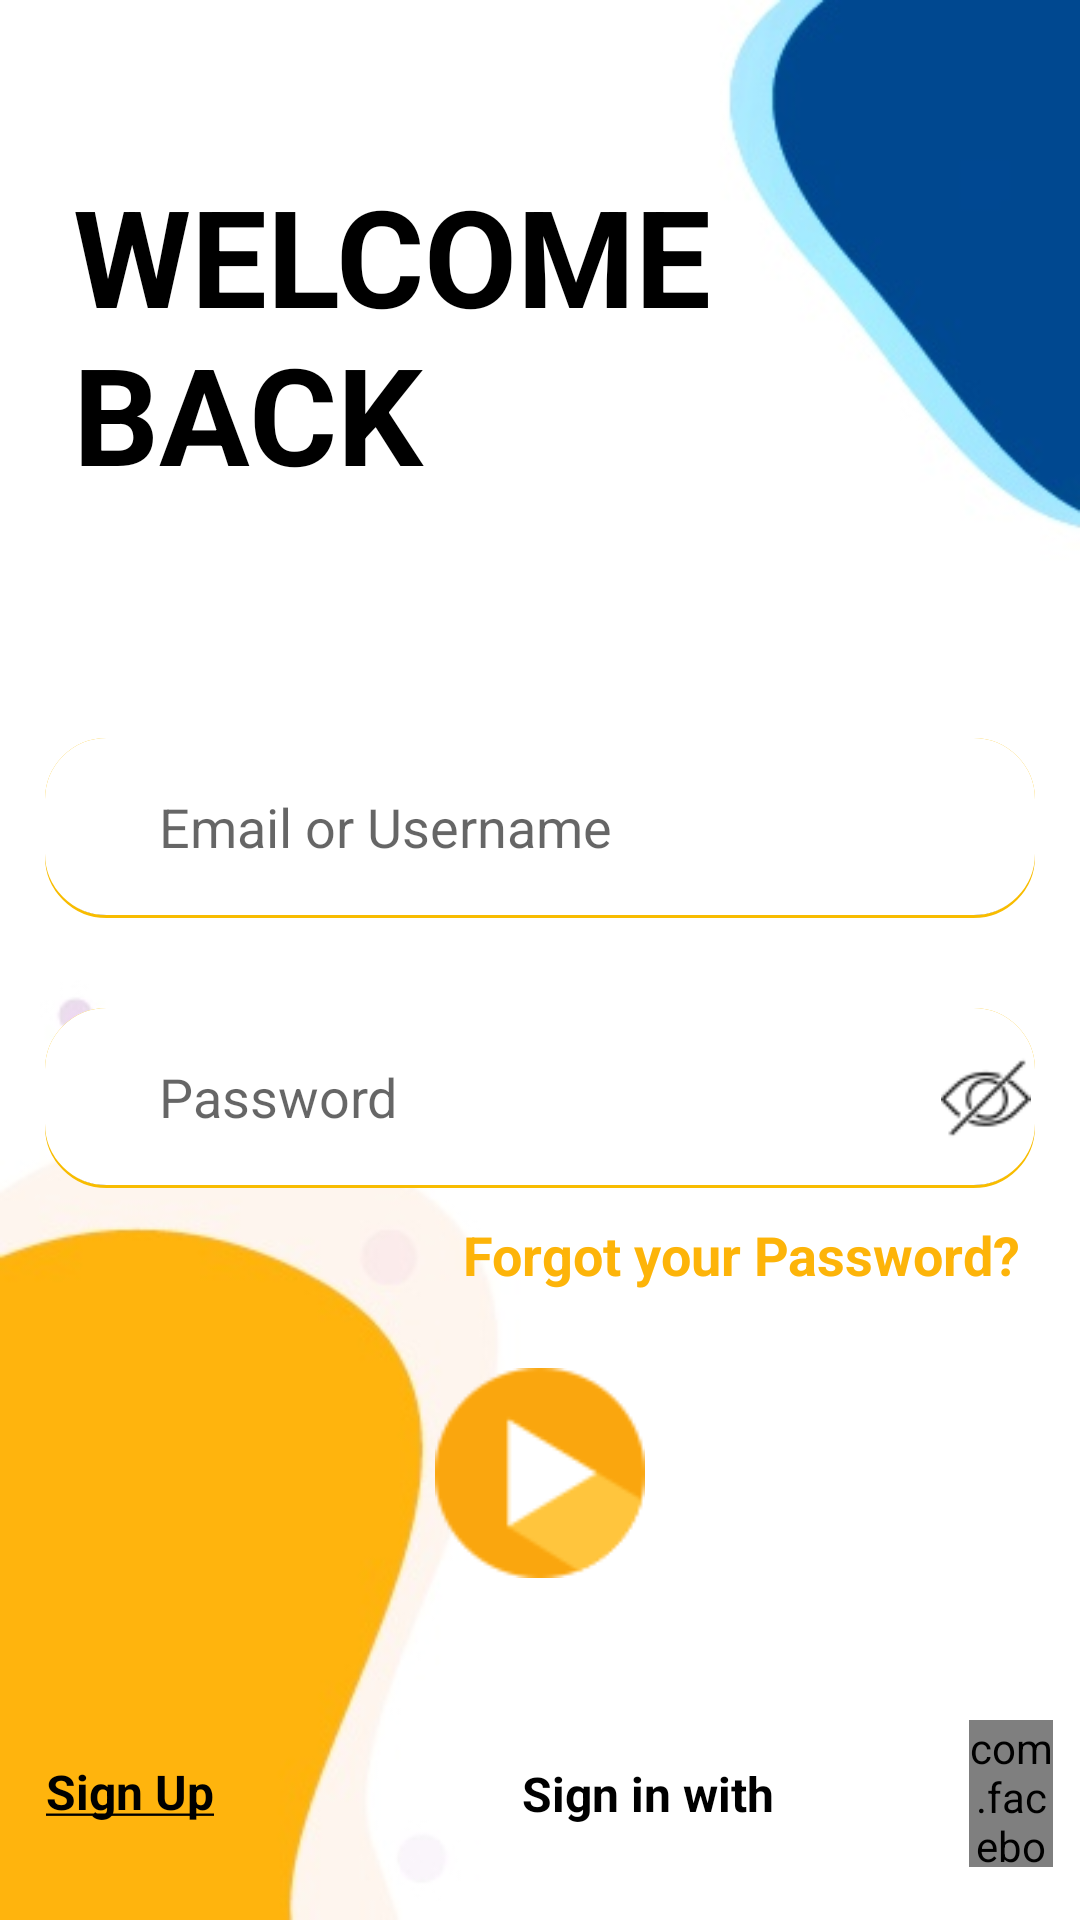

Where to tap for icons on this 1080x1920 app screen, as [x,y]:
arrow next: [540,1473]
